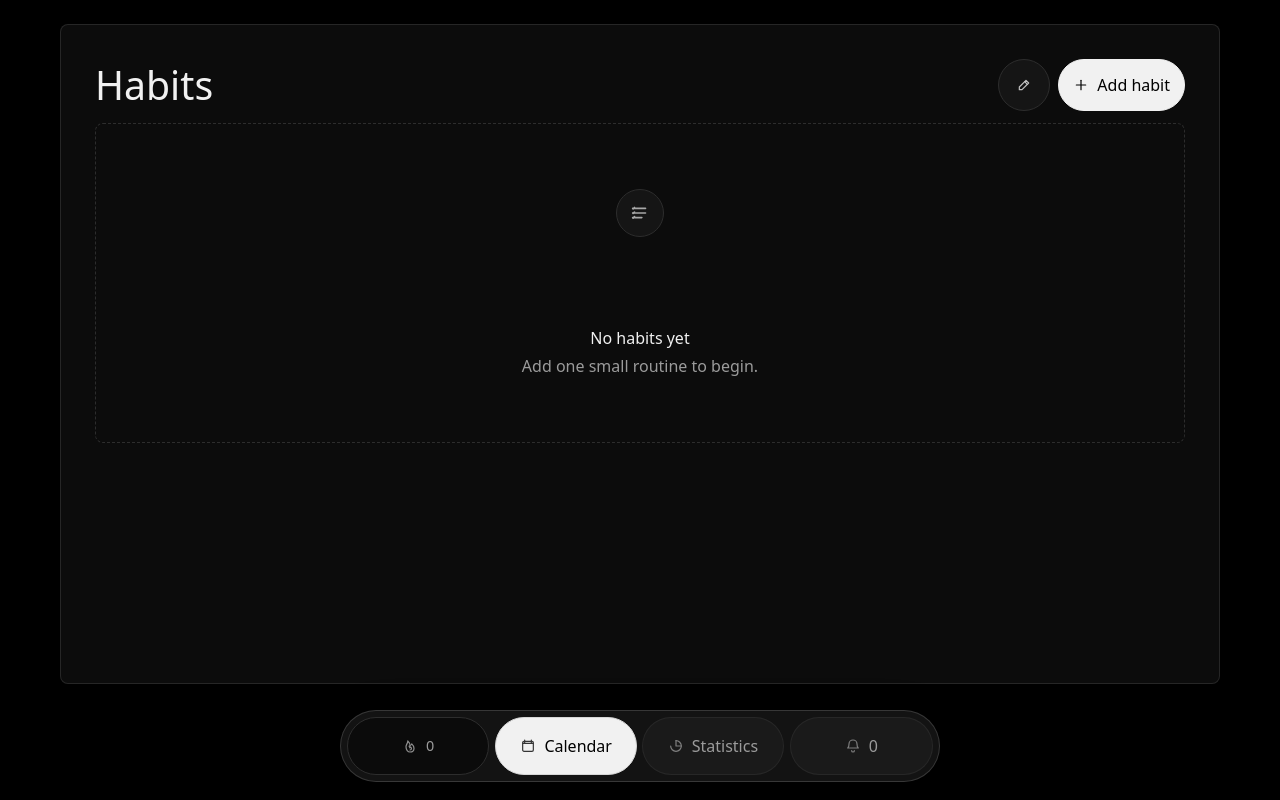
Test: Habit Grid app › validates duplicate habit names
Click the button "Add habit" at (1122, 85), box [1058,59,1185,111]
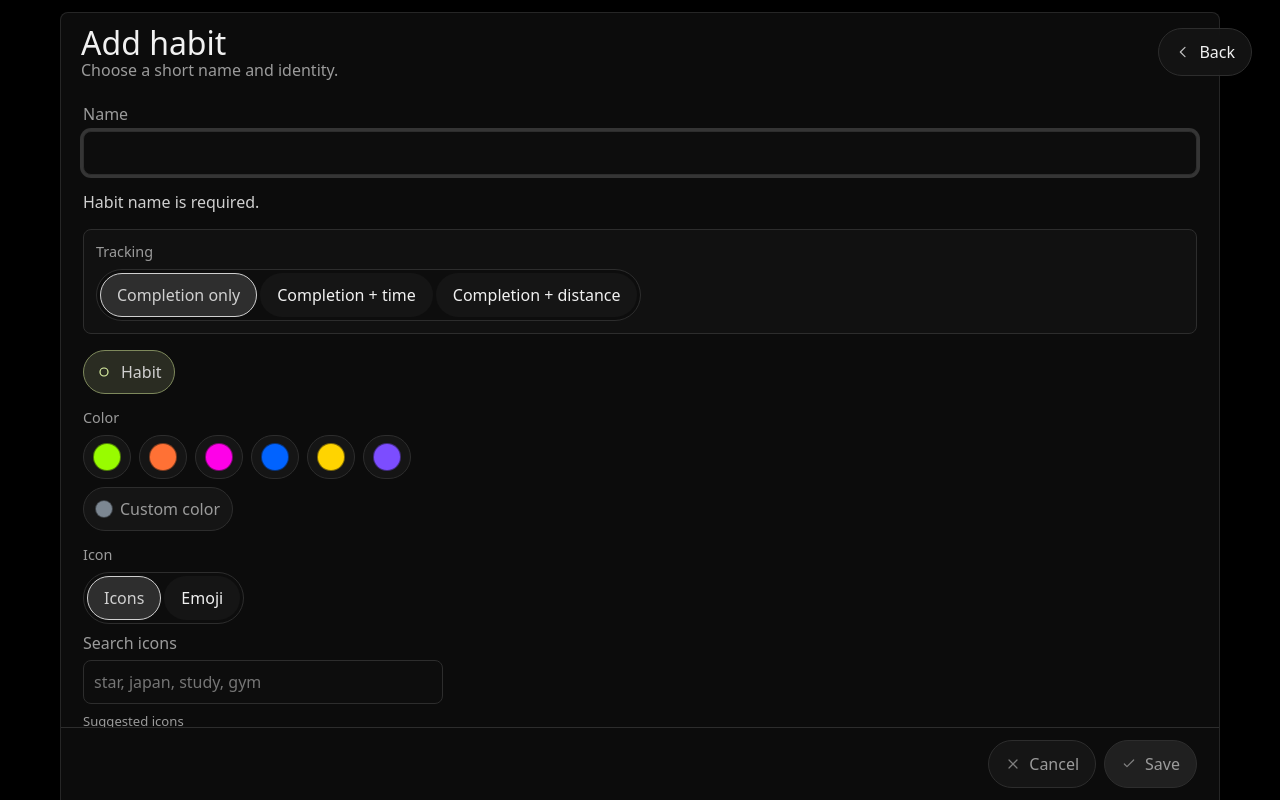
Type "Gym" into the field labelled "Name" at (640, 153), box [83,131,1197,175]
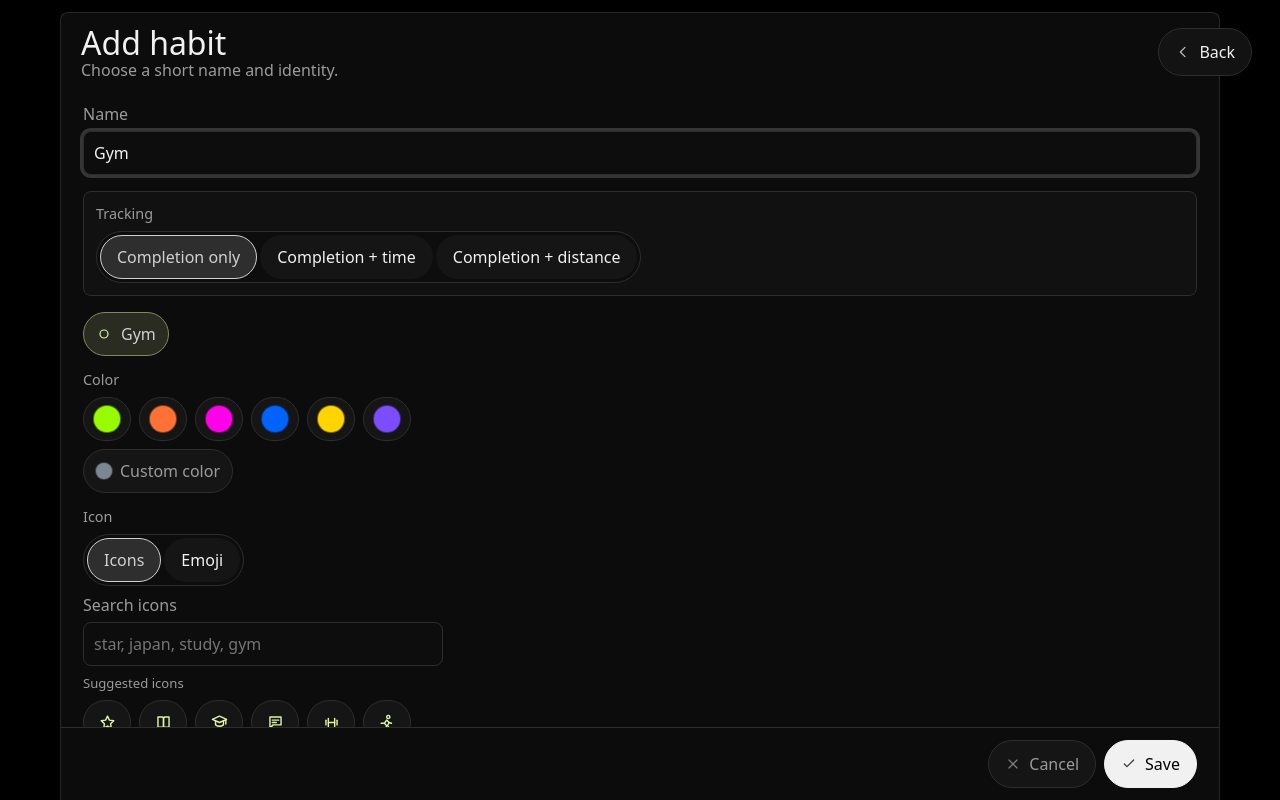
Click the button "Save" at (1151, 764), box [1104,740,1197,788]
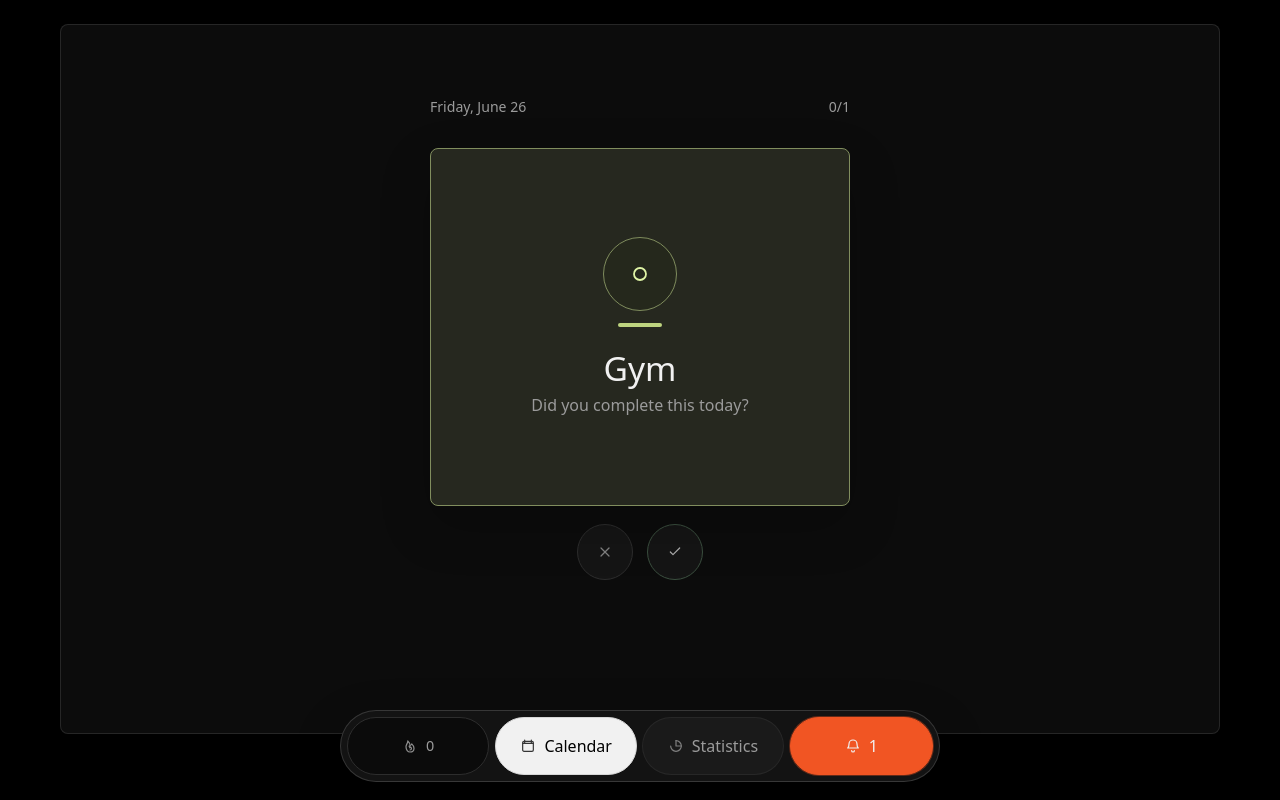
Click the button named "No" at (605, 552), box [577,524,633,580]
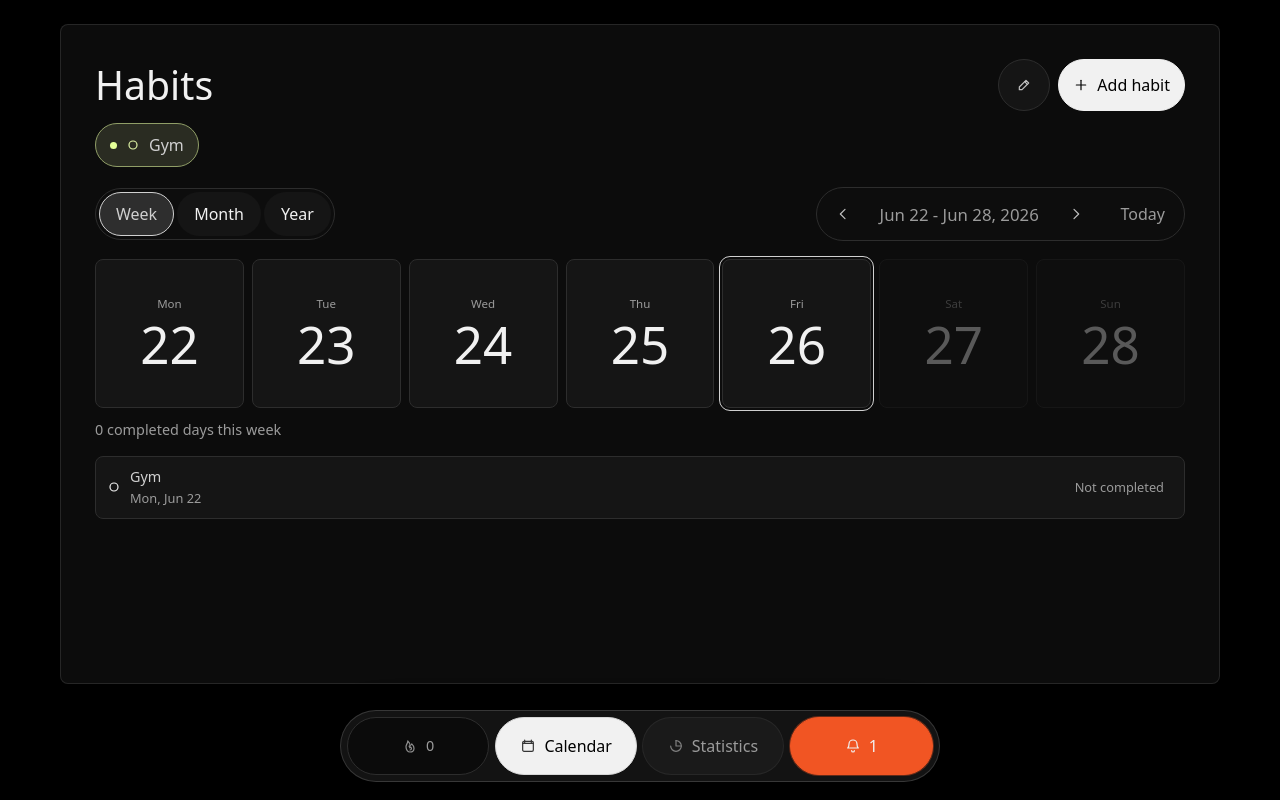
Click the button "Add habit" at (1122, 85), box [1058,59,1185,111]
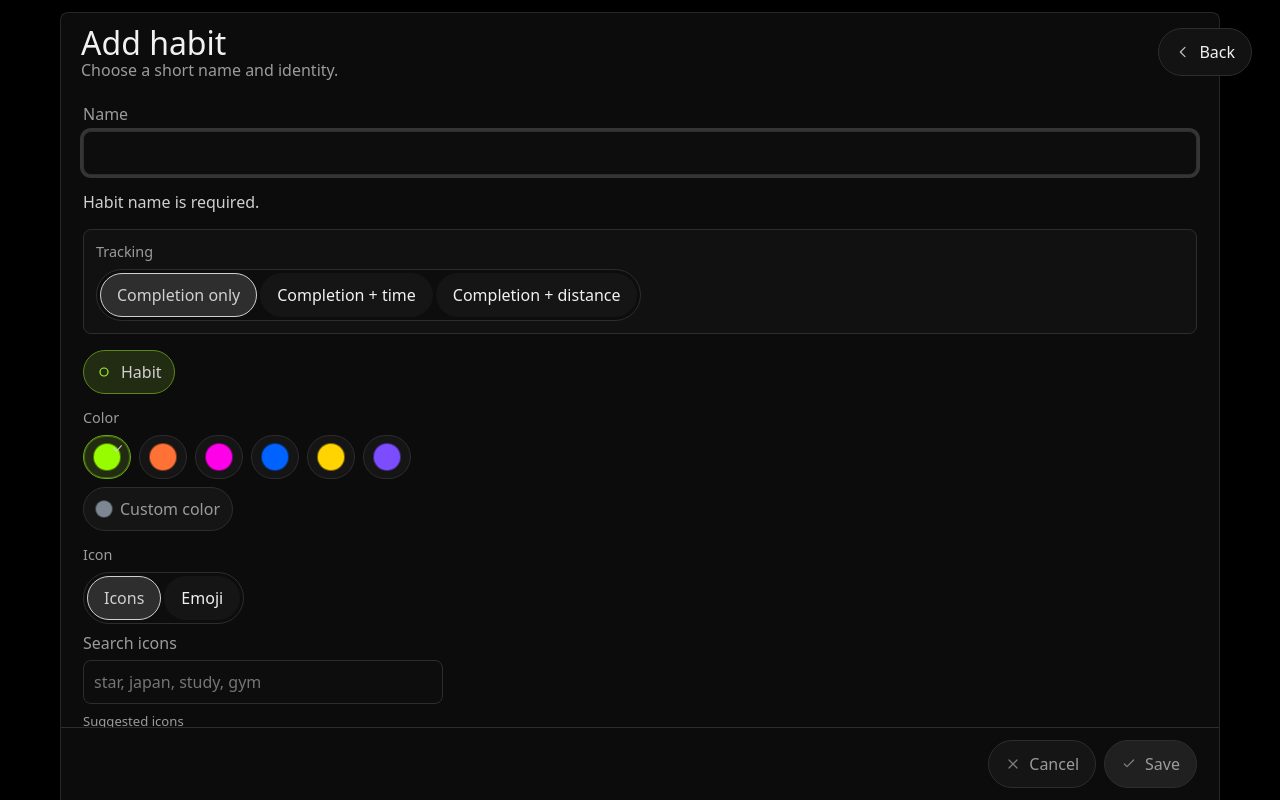
Type "gym" into the field labelled "Name" at (640, 153), box [83,131,1197,175]
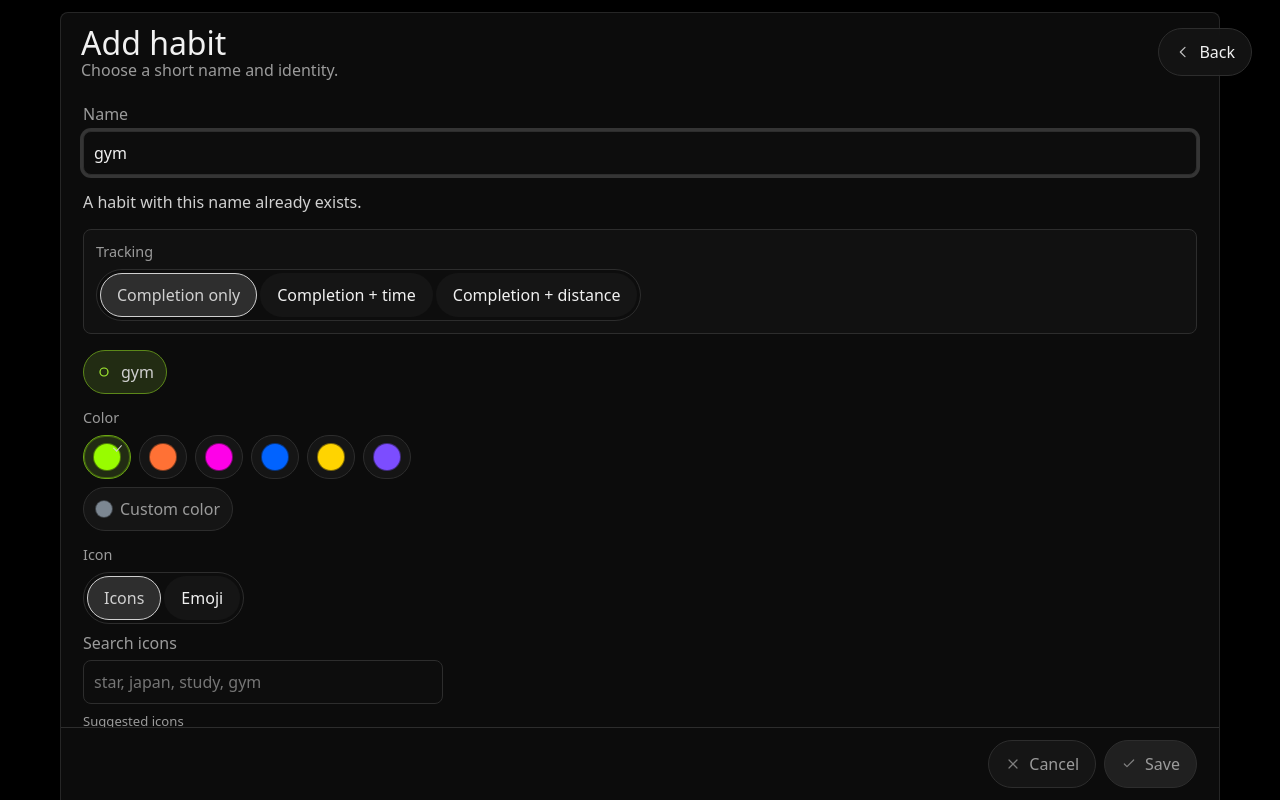
Expected: the text "A habit with this name already exists." is shown, [83,191,362,213]
